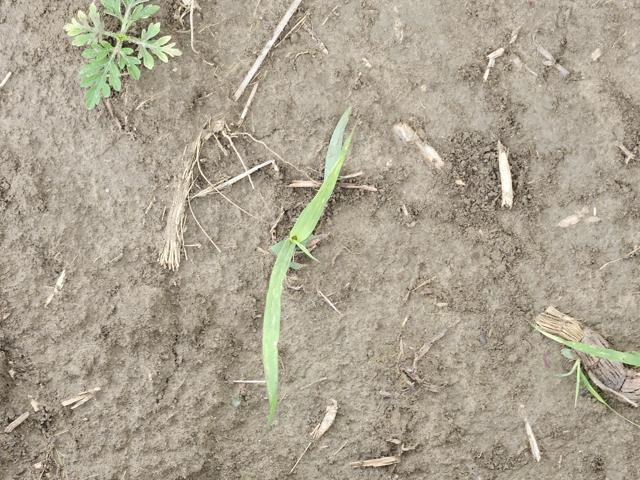bad weed: (262, 89, 363, 403), (51, 8, 207, 100), (498, 323, 640, 409)
